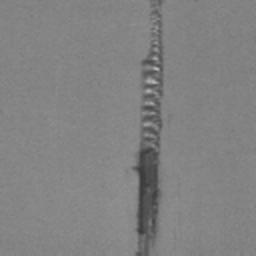Slag inclusion: (131, 0, 166, 256)
